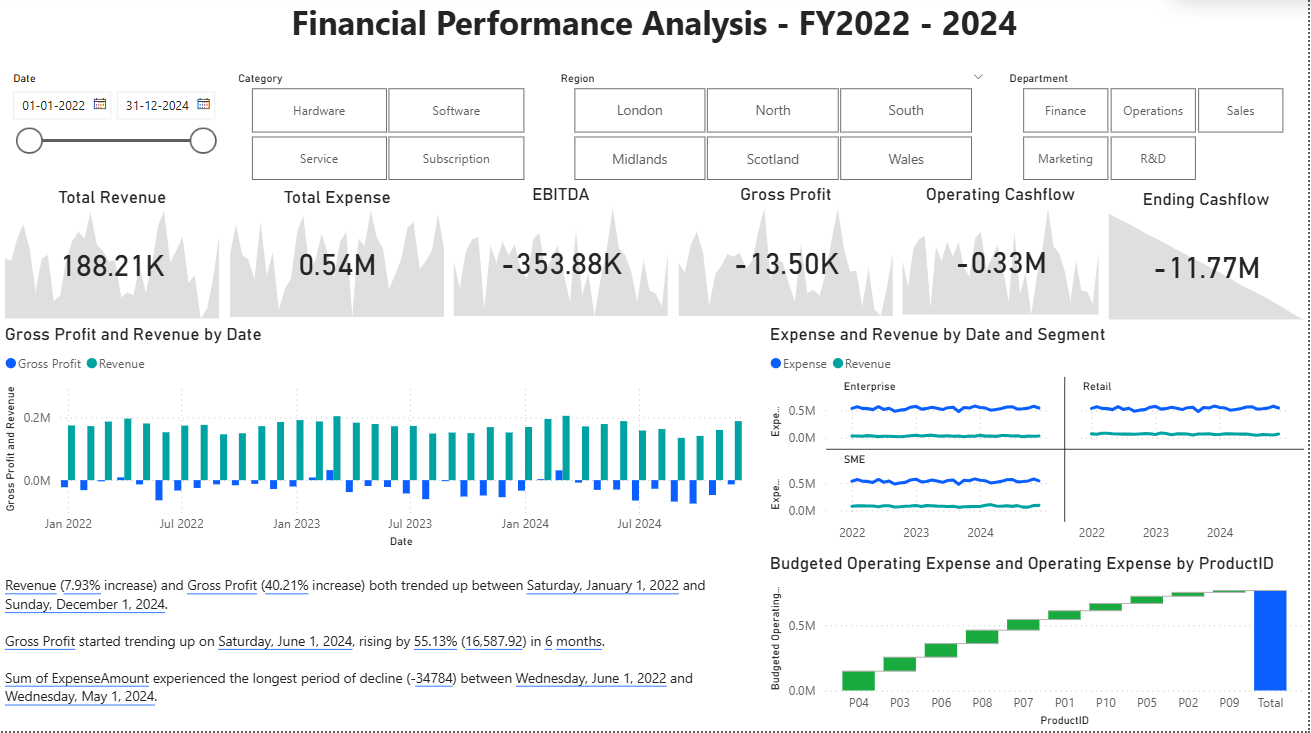

The page's visual inventory and layout, read from the dashboard file:
{"tool":"powerbi","page":{"name":"KPIs","canvas":[1280,720],"ordinal":0},"visuals":[{"type":"kpi","title":"Total Revenue","fields":{"Indicator":["Revenue.Total Revenue"],"TrendLine":["Date.Date"]},"box":[0,186.6,219.6,134.5],"z":0},{"type":"kpi","title":"Gross Profit","fields":{"Indicator":["Revenue.Gross Profit"],"TrendLine":["Date.Date"]},"box":[658.7,185.2,219.6,134.5],"z":1000},{"type":"kpi","title":"EBITDA","fields":{"Indicator":["Revenue.Operating Profit"],"TrendLine":["Date.Date"]},"box":[439.1,185.2,219.6,134.5],"z":2000},{"type":"textbox","box":[0,0,1280,69.8],"z":3000},{"type":"slicer","fields":{"Values":["Date.Date"]},"box":[0,69.8,219.5,118.3],"z":4000},{"type":"slicer","fields":{"Values":["Product.Category"]},"box":[219.5,69.8,316.4,118.3],"z":5000},{"type":"slicer","fields":{"Values":["Revenue.Region"]},"box":[535.9,69.8,439,118.3],"z":6000},{"type":"slicer","fields":{"Values":["Department.DepartmentName"]},"box":[975,69.8,305,118.3],"z":7000},{"type":"kpi","title":"Operating Cashflow ","fields":{"TrendLine":["Date.Date"],"Indicator":["Sum(Cashflow.OperatingCashflow)"]},"box":[878.2,185.2,201.7,133.1],"z":8000},{"type":"kpi","title":"Total Expense","fields":{"TrendLine":["Date.Date"],"Indicator":["Sum(Expenses.ExpenseAmount)"]},"box":[219.6,186.6,219.6,133.1],"z":9000},{"type":"kpi","title":"Ending Cashflow","fields":{"Indicator":["Sum(Cashflow.EndingCash)"],"TrendLine":["Date.Date"]},"box":[1079.9,189.4,200.3,133.1],"z":10000},{"type":"clusteredColumnChart","fields":{"Category":["Date.Date"],"Y":["Revenue.Gross Profit","Sum(Revenue.RevenueAmount)"]},"box":[0,321.1,747.9,223.7],"z":11000},{"type":"lineChart","fields":{"Category":["Date.Date"],"Y":["Sum(Expenses.ExpenseAmount)","Sum(Revenue.RevenueAmount)"],"Rows":["Customer.Segment"]},"box":[747.9,321.1,532.4,223.7],"z":12000},{"type":"waterfallChart","fields":{"Category":["Budget.ProductID"],"Y":["Sum(Budget.BudgetedOperatingExpense)"]},"box":[748,545,532,175],"z":13000},{"type":"textbox","box":[0,545,748,175],"z":14000}]}

Visuals, with their boxes in screenshot pixels (x1, y1, x2, y2), scaled from the page's 1280x720 canvas onto the 1311x733 screenshot:
"Total Revenue" kpi: <bbox>0, 190, 225, 327</bbox>
"Gross Profit" kpi: <bbox>675, 189, 900, 325</bbox>
"EBITDA" kpi: <bbox>450, 189, 675, 325</bbox>
textbox: <bbox>0, 0, 1310, 71</bbox>
slicer - Date.Date: <bbox>0, 71, 225, 191</bbox>
slicer - Product.Category: <bbox>225, 71, 549, 191</bbox>
slicer - Revenue.Region: <bbox>549, 71, 999, 191</bbox>
slicer - Department.DepartmentName: <bbox>999, 71, 1310, 191</bbox>
"Operating Cashflow " kpi: <bbox>899, 189, 1106, 324</bbox>
"Total Expense" kpi: <bbox>225, 190, 450, 325</bbox>
"Ending Cashflow" kpi: <bbox>1106, 193, 1310, 328</bbox>
clusteredColumnChart - Date.Date x Revenue.Gross Profit: <bbox>0, 327, 766, 555</bbox>
lineChart - Date.Date x Sum(Expenses.ExpenseAmount): <bbox>766, 327, 1310, 555</bbox>
waterfallChart - Budget.ProductID x Sum(Budget.BudgetedOperatingExpense): <bbox>766, 555, 1310, 732</bbox>
textbox: <bbox>0, 555, 766, 732</bbox>
